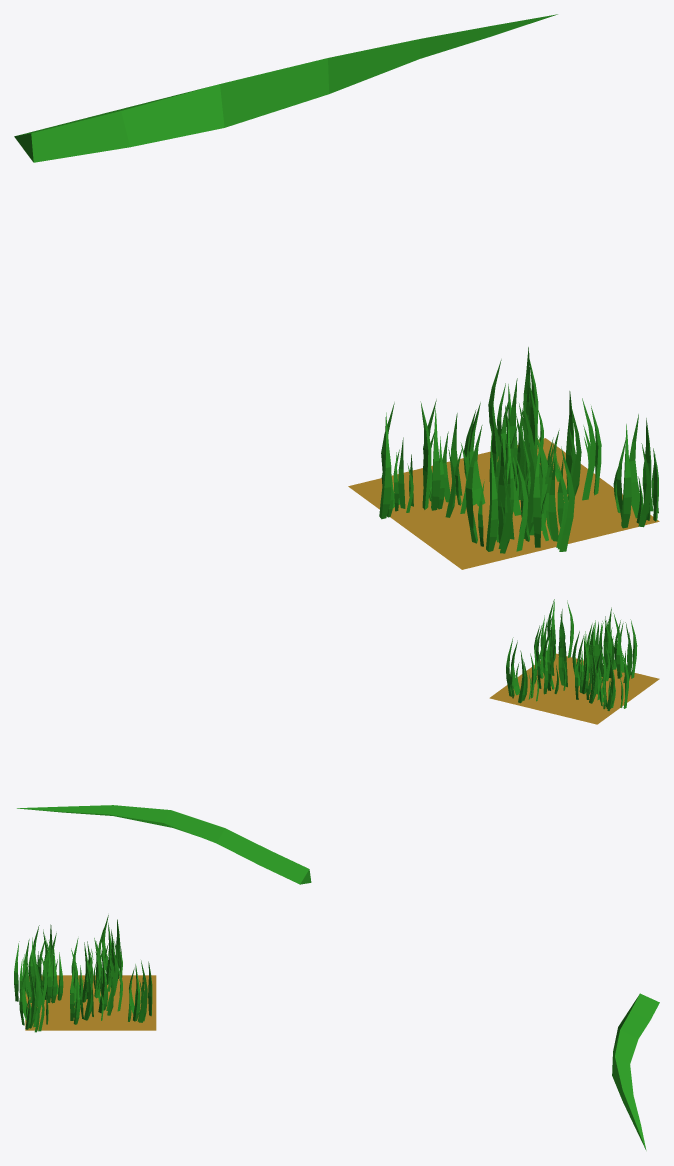
File: LowPolyGrass 1.fbx
3 renders of one model, top to bottom at view 1: azimuth 30°, elevation 25°; view 2: azimuth 150°, elevation 25°; view 3: azimuth 270°, elevation 25°, orthographic. The views are drawn at different scales.
Visible parts, largest first — view 1: Cone, Plane; view 2: Cone, Plane; view 3: Plane, Cone.
Part boxes in pixels (x1,y1,x2,y2): Cone: [14, 14, 557, 162]; Plane: [348, 438, 659, 569]; Cone: [17, 805, 311, 884]; Plane: [489, 653, 659, 724]; Plane: [25, 975, 156, 1030]; Cone: [612, 993, 659, 1150].
Size of the model in its own units: 489 by 86.83 by 734.
